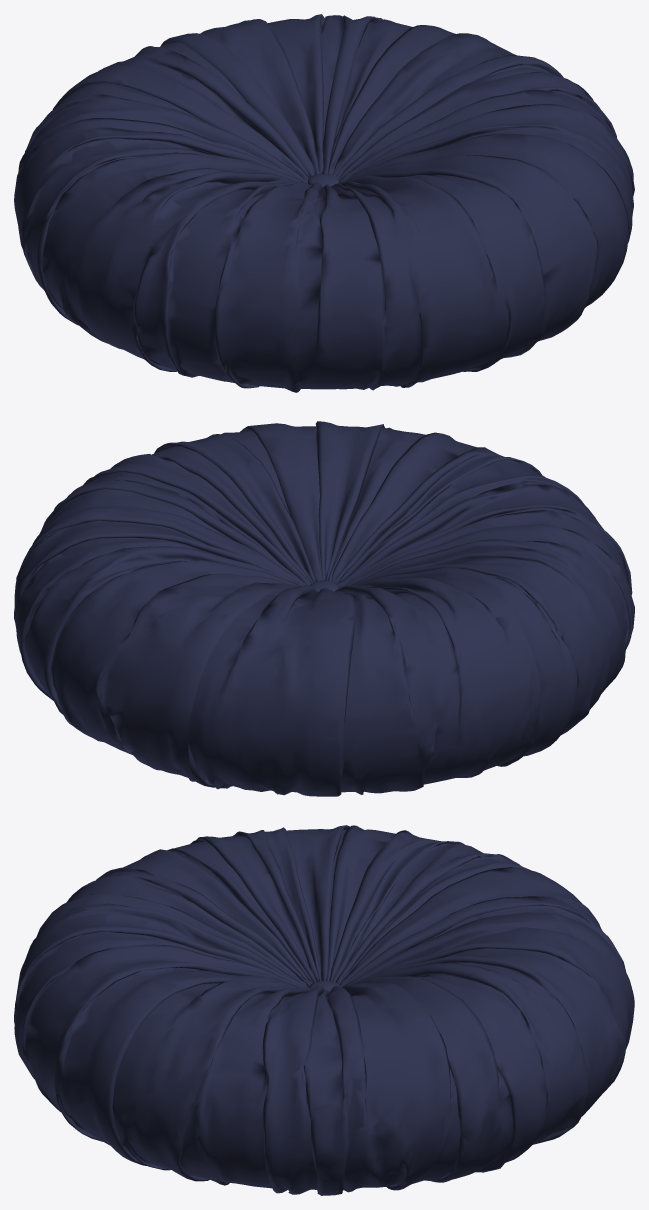
The model's file is pouf.glb.
The picture shows the model from 3 angles, top to bottom: view 1: azimuth 30°, elevation 25°; view 2: azimuth 150°, elevation 25°; view 3: azimuth 270°, elevation 25°; orthographic projection.
Visible parts, largest first — view 1: SpecularSilkPouf; view 2: SpecularSilkPouf; view 3: SpecularSilkPouf.
Part boxes in pixels (x1,y1,x2,y2): SpecularSilkPouf: (14, 14, 634, 392); SpecularSilkPouf: (14, 421, 634, 796); SpecularSilkPouf: (14, 825, 634, 1195).
Size of the model in its own units: 0.6099 by 0.1978 by 0.61.
